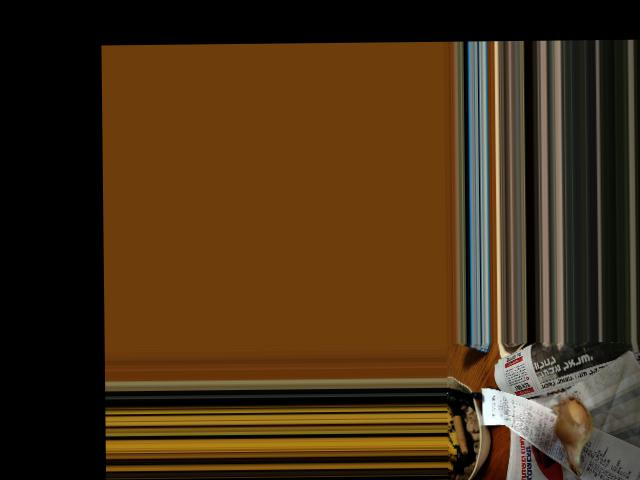onion: (558, 392, 592, 453)
